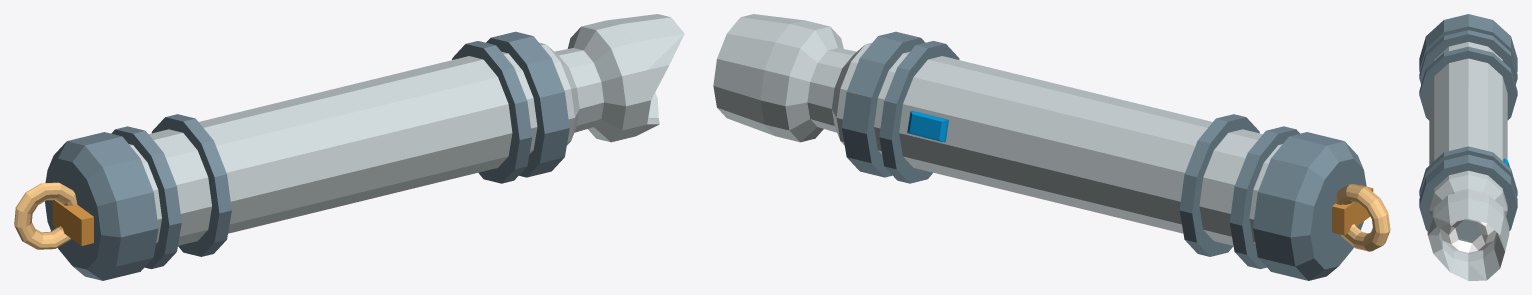
Rendered from Lightsaber.glb.
3 renders of one model, left to right at view 1: azimuth 30°, elevation 25°; view 2: azimuth 150°, elevation 25°; view 3: azimuth 270°, elevation 25°, orthographic. The views are drawn at different scales.
Visible parts, largest first — view 1: group1078690966, group95316904, group777452564, group1745477099, group1458190678, group189823606, group1884810170, group885107042; view 2: group1078690966, group95316904, group777452564, group1458190678, group1745477099, group189823606, group1884810170, group848268498, group885107042; view 3: group1078690966, group777452564, group1745477099, group95316904, group189823606, group1458190678.
Boxes of the visible parts, <box> form: group1078690966: <box>129,14,684,245</box>; group95316904: <box>45,132,158,280</box>; group777452564: <box>486,31,569,177</box>; group1745477099: <box>151,114,231,256</box>; group1458190678: <box>452,41,532,183</box>; group189823606: <box>111,126,181,268</box>; group1884810170: <box>14,182,77,249</box>; group885107042: <box>52,200,93,245</box>; group1078690966: <box>713,14,1282,245</box>; group95316904: <box>1253,132,1366,280</box>; group777452564: <box>842,31,925,177</box>; group1458190678: <box>879,41,959,183</box>; group1745477099: <box>1179,114,1259,256</box>; group189823606: <box>1229,126,1299,269</box>; group1884810170: <box>1335,184,1390,251</box>; group848268498: <box>907,110,948,142</box>; group885107042: <box>1332,185,1373,235</box>; group1078690966: <box>1427,42,1509,280</box>; group777452564: <box>1419,154,1517,240</box>; group1745477099: <box>1419,46,1517,120</box>; group95316904: <box>1419,14,1517,72</box>; group189823606: <box>1419,30,1517,84</box>; group1458190678: <box>1419,146,1517,196</box>.
Size of the model in its own units: 0.5215 by 0.1 by 0.1.
